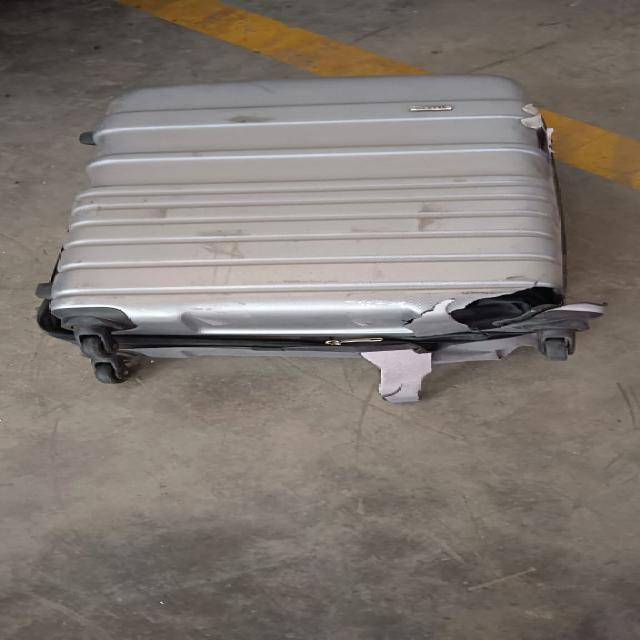Damage-bag: (114, 286, 606, 402), (36, 271, 75, 342)
